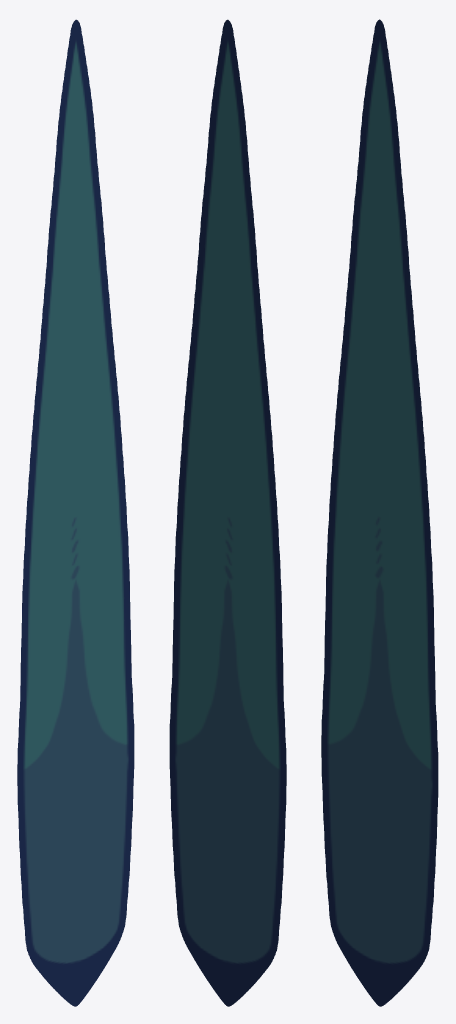
Rendered from HojaL.fbx.
3 views of the same model, side by side, from view 1: azimuth 30°, elevation 25°; view 2: azimuth 150°, elevation 25°; view 3: azimuth 330°, elevation 25° (orthographic).
Visible parts, largest first — view 1: HojaL; view 2: HojaL; view 3: HojaL.
Part boxes in pixels (<box>): HojaL: <box>17,19,134,1006</box>; HojaL: <box>169,19,286,1006</box>; HojaL: <box>321,19,438,1006</box>.
Size of the model in its own units: 0.2139 by 1.63 by 7.14e-08.
